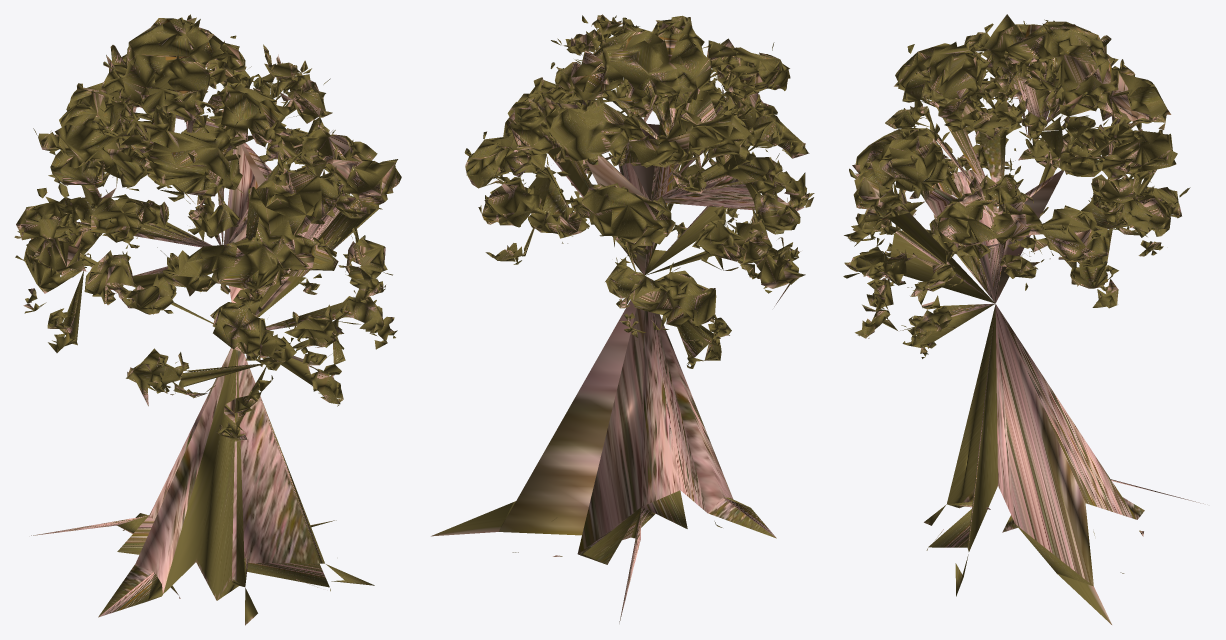
Rendered from Metaphor_The_Tree_of.glb.
3 renders of one model, left to right at view 1: azimuth 30°, elevation 25°; view 2: azimuth 150°, elevation 25°; view 3: azimuth 270°, elevation 25°, orthographic. The views are drawn at different scales.
Parts seen in each view (by area): view 1: Metaphor_The_Tree_of; view 2: Metaphor_The_Tree_of; view 3: Metaphor_The_Tree_of.
Boxes of the visible parts, left/top/right/bottom form: Metaphor_The_Tree_of: left=14, top=14, right=401, bottom=625; Metaphor_The_Tree_of: left=431, top=14, right=814, bottom=623; Metaphor_The_Tree_of: left=843, top=14, right=1203, bottom=624.
Size of the model in its own units: 1.22 by 1.98 by 1.27.
Materials: 1 (1 with a texture image).
